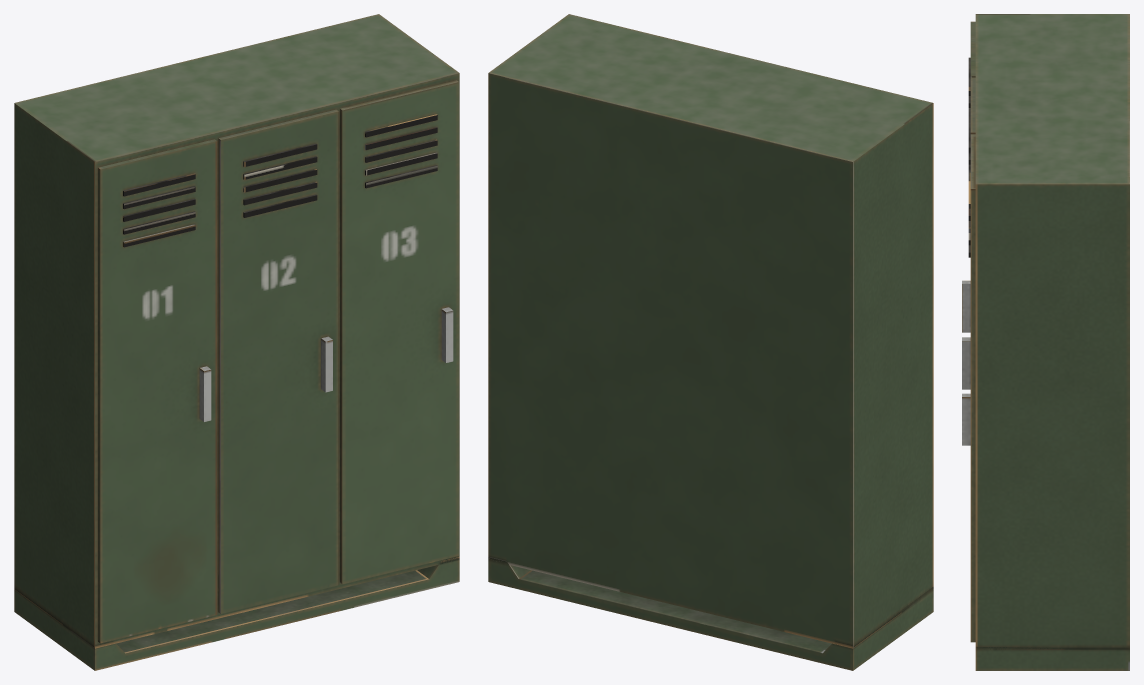
The model's file is H_Wardrobe_Lockers.fbx.
3 views of the same model, side by side, from view 1: azimuth 30°, elevation 25°; view 2: azimuth 150°, elevation 25°; view 3: azimuth 270°, elevation 25° (orthographic). The views are drawn at different scales.
Parts seen in each view (by area): view 1: H_Wardrobe_Lockers; view 2: H_Wardrobe_Lockers; view 3: H_Wardrobe_Lockers.
Part boxes in pixels (bbox=[...]): H_Wardrobe_Lockers: bbox=[14, 14, 459, 670]; H_Wardrobe_Lockers: bbox=[488, 14, 933, 670]; H_Wardrobe_Lockers: bbox=[962, 14, 1129, 670].
Bounding box in the file's own units: 600 × 800 × 250.
1 material, 1 textured.
